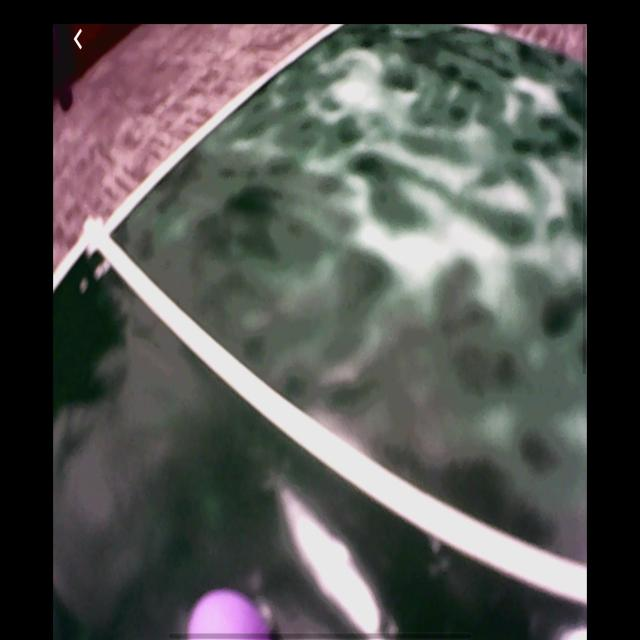ball: (184, 588, 273, 640)
